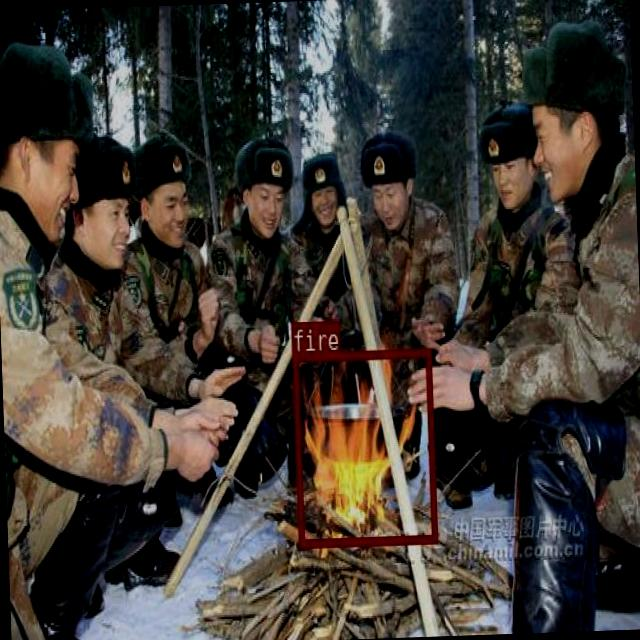fire: (292, 347, 436, 546)
